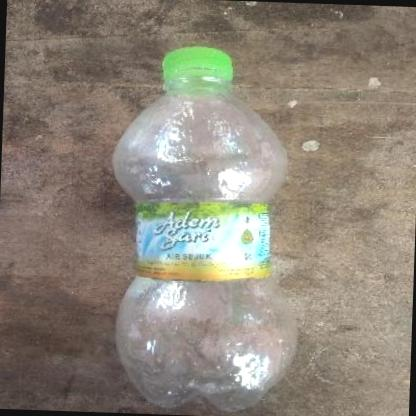plastic_bottles: (101, 39, 312, 416)
